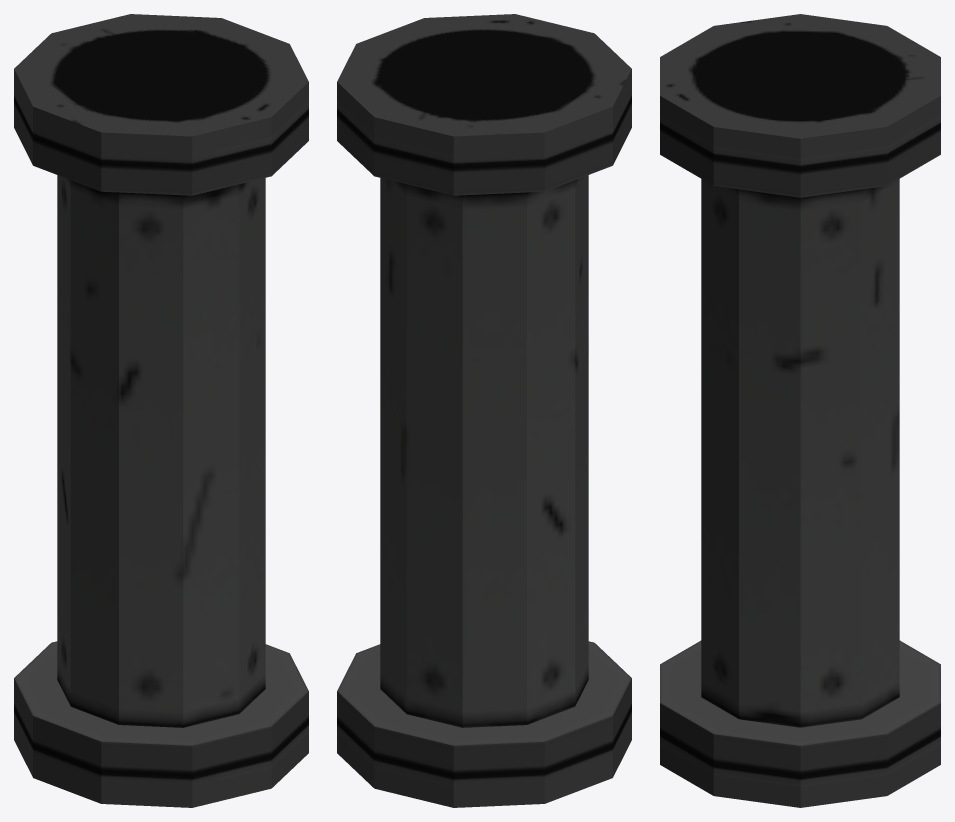
Rendered from mod_prop_pipe_vertical01.fbx.
3 views of the same model, side by side, from view 1: azimuth 30°, elevation 25°; view 2: azimuth 150°, elevation 25°; view 3: azimuth 270°, elevation 25° (orthographic).
Parts seen in each view (by area): view 1: mod_prop_pipe_vertical01; view 2: mod_prop_pipe_vertical01; view 3: mod_prop_pipe_vertical01.
Boxes of the visible parts, x1,y1,x2,y2 form: mod_prop_pipe_vertical01: (14, 14, 308, 807); mod_prop_pipe_vertical01: (337, 14, 631, 807); mod_prop_pipe_vertical01: (660, 14, 940, 807).
Size of the model in its own units: 35.84 by 89.59 by 34.09.
